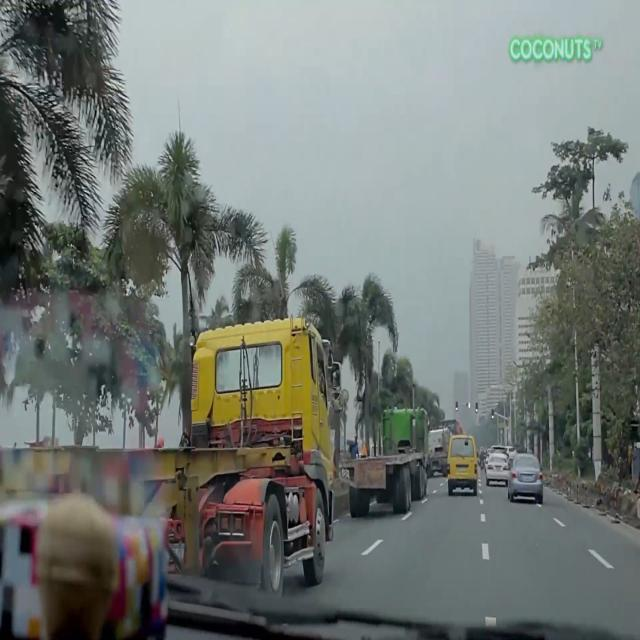truck: (0, 312, 342, 606), (338, 405, 431, 518), (432, 428, 449, 477)
